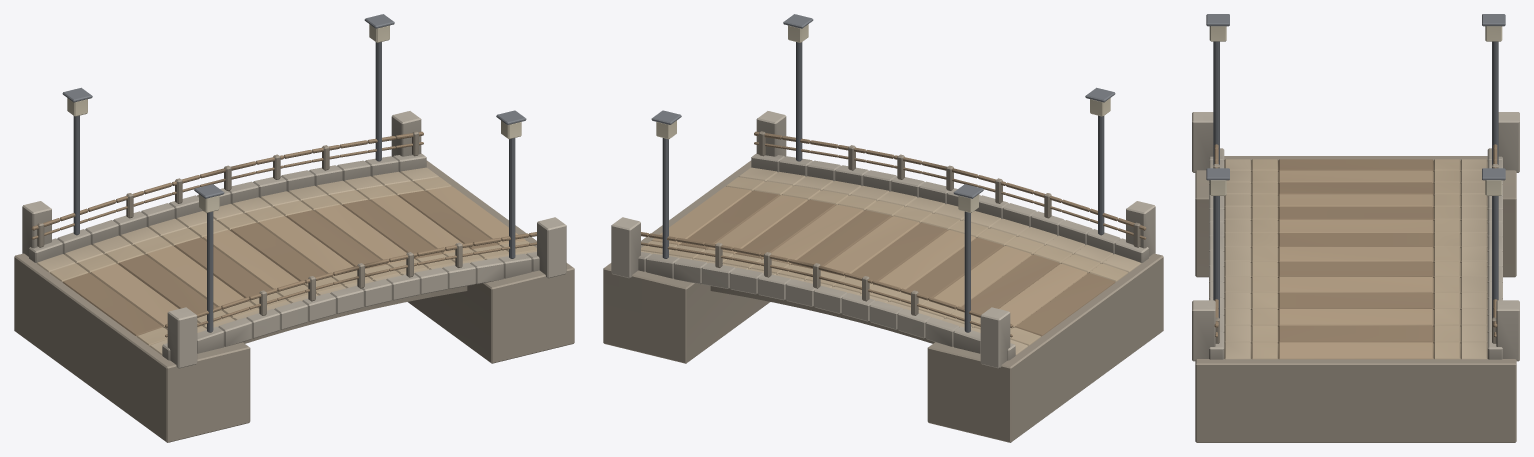
File: bridge_river_wide.glb
3 views of the same model, side by side, from view 1: azimuth 30°, elevation 25°; view 2: azimuth 150°, elevation 25°; view 3: azimuth 270°, elevation 25° (orthographic). The views are drawn at different scales.
Size of the model in its own units: 14.6 by 7.95 by 9.7.
